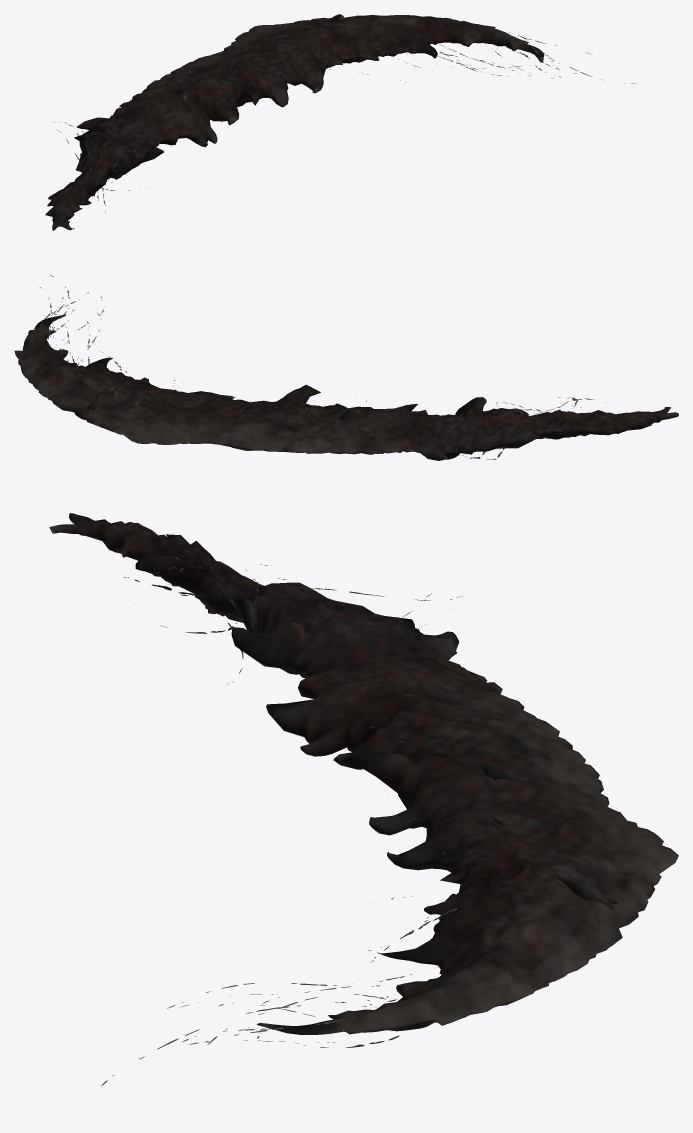
Rendered from weapon-wp_a_0455.glb.
The picture shows the model from 3 angles, top to bottom: view 1: azimuth 30°, elevation 25°; view 2: azimuth 150°, elevation 25°; view 3: azimuth 270°, elevation 25°; orthographic projection. The views are drawn at different scales.
Parts seen in each view (by area): view 1: wp_a_0455_mesh; view 2: wp_a_0455_mesh; view 3: wp_a_0455_mesh.
Part boxes in pixels (x1,y1,x2,y2): wp_a_0455_mesh: [45, 14, 636, 230]; wp_a_0455_mesh: [14, 274, 678, 460]; wp_a_0455_mesh: [49, 513, 678, 1086].
Bounding box in the file's own units: 1.94 × 0.1472 × 0.9201.
Materials: 2 (2 with a texture image).
